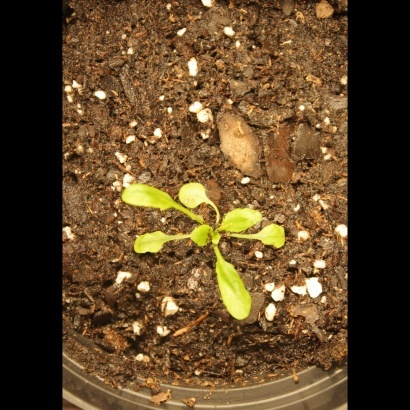leaf: (207, 254, 263, 329), (121, 175, 176, 221), (130, 226, 177, 261), (254, 221, 292, 254), (178, 178, 214, 211), (221, 206, 265, 233), (190, 224, 217, 250)
